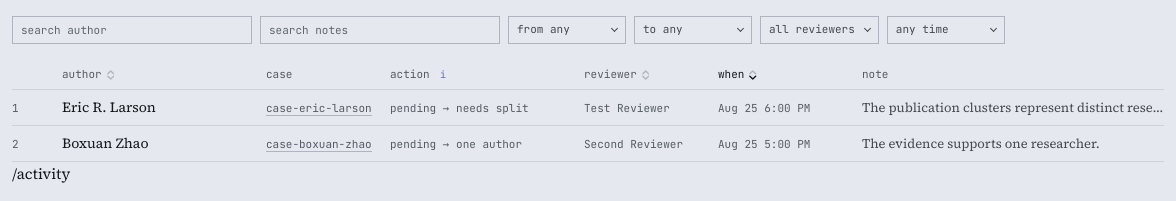
Test case: ignores orphan direction and announces effective default sorting
The width and height of the screenshot is (1176, 201).
expect the table named "Recorded decisions" is shown: met, box [12,60,1164,162]
expect the text with test id "location" reads "/activity": met, box [12,163,70,184]
Step 1. Click the button with aria-label "Sort by time, ascending" → point(737, 75), box [718,67,757,82]
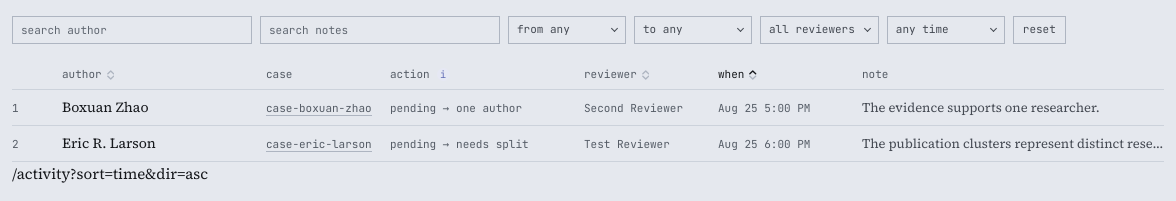
expect the text with test id "location" shows "sort=time&dir=asc": met, box [70,163,208,184]
